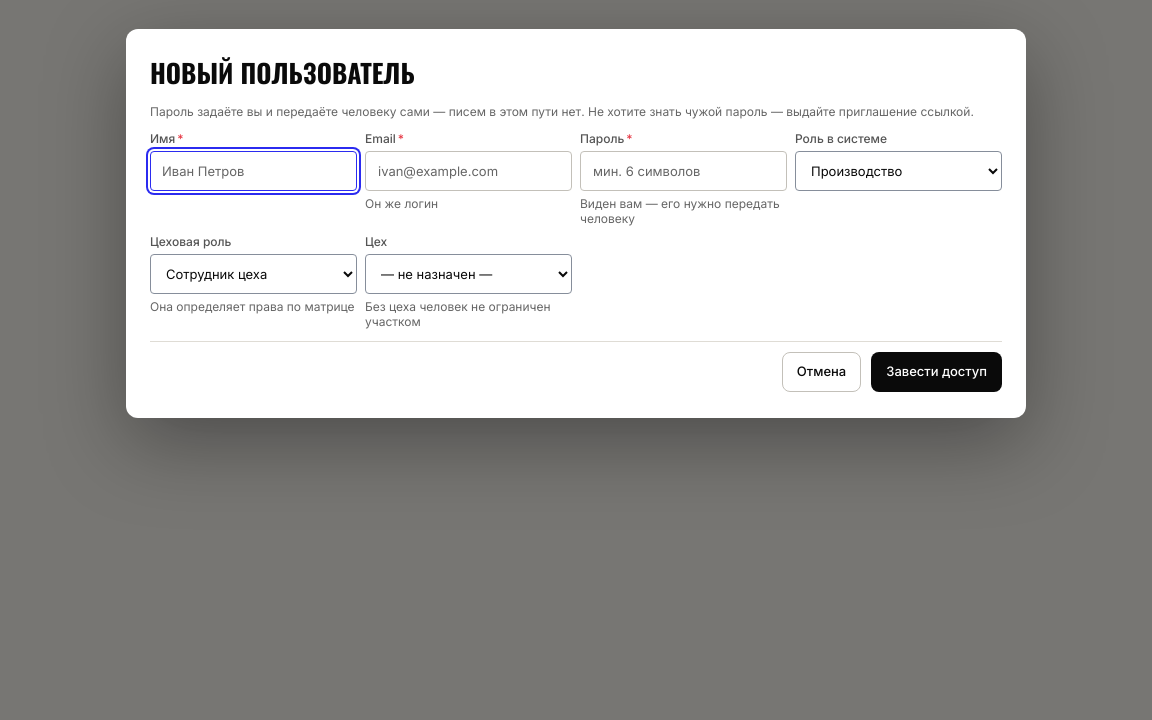
Test: UserModal — заведение › короткий пароль не уходит на сервер
Type "Пётр" into the field labelled "Имя*" at (254, 171), box [150,151,357,191]
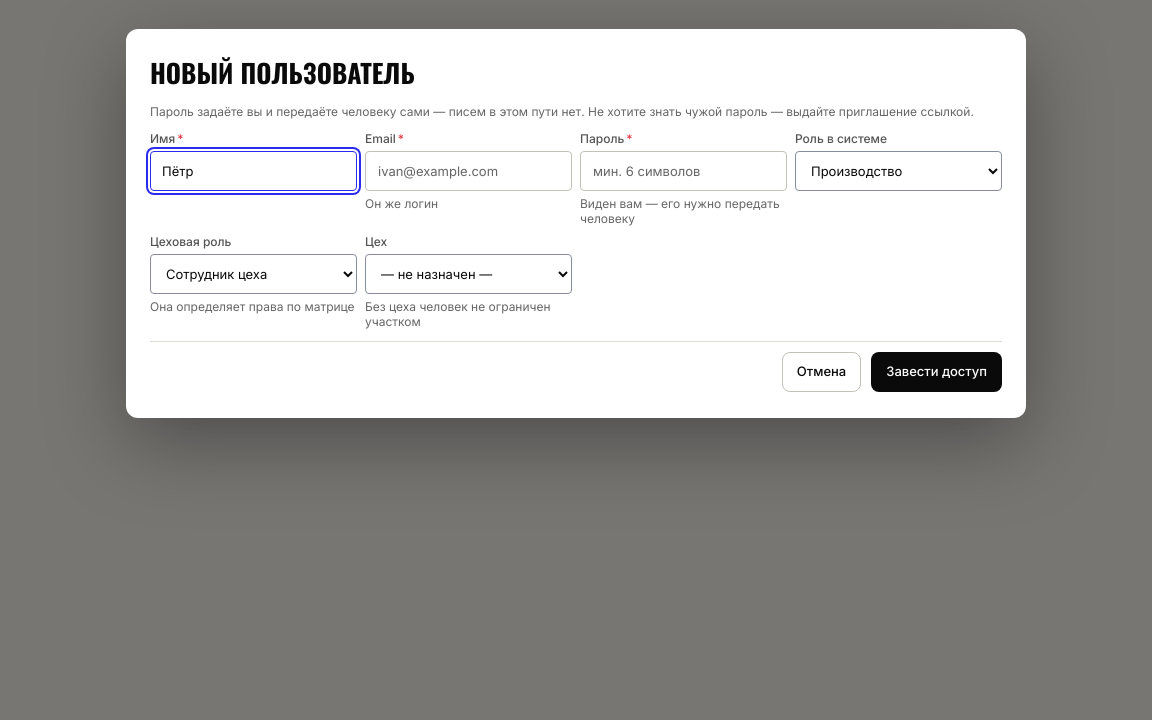
Type "petr@pinhead.ru" into the field labelled "Email*" at (468, 171), box [365,151,572,191]
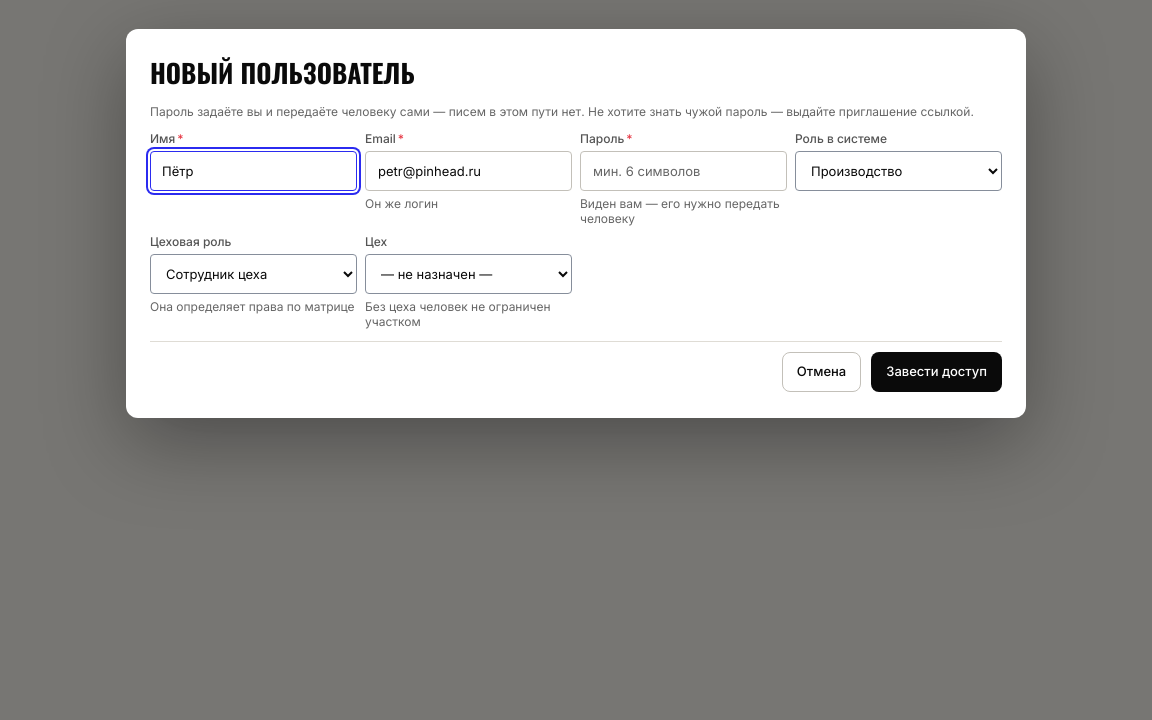
Type "123" into the field labelled "Пароль*" at (684, 171), box [580,151,787,191]
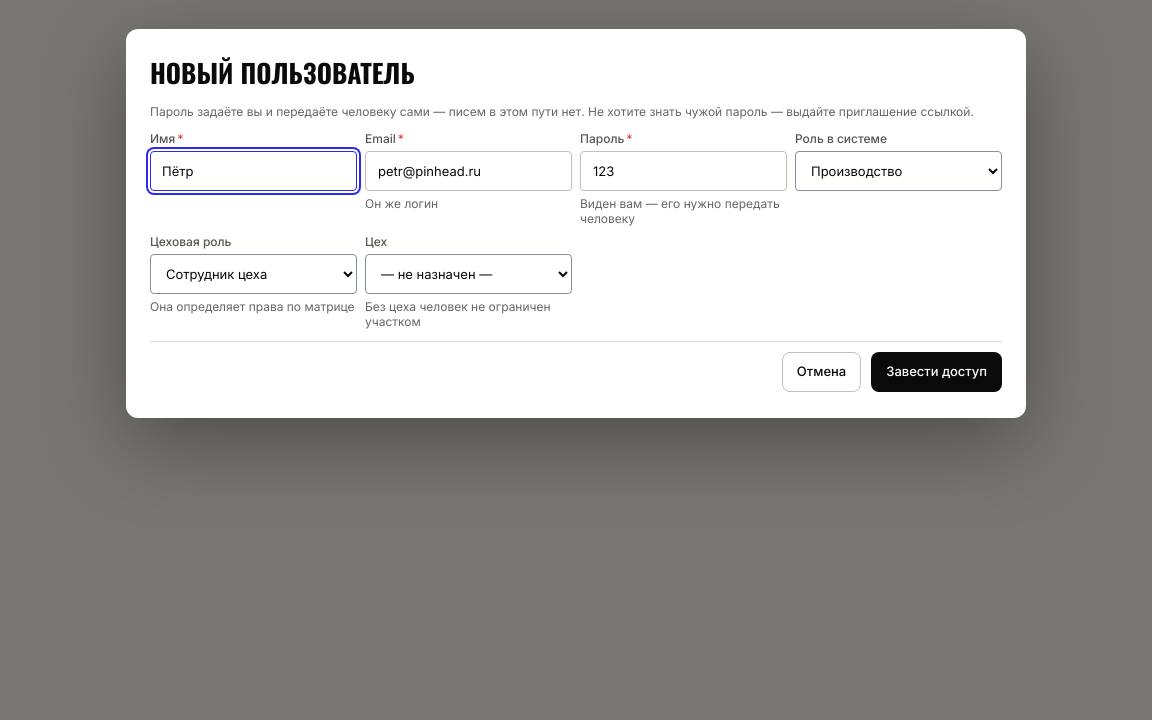
Click the button "Завести доступ" at (937, 372), box [871,352,1002,392]
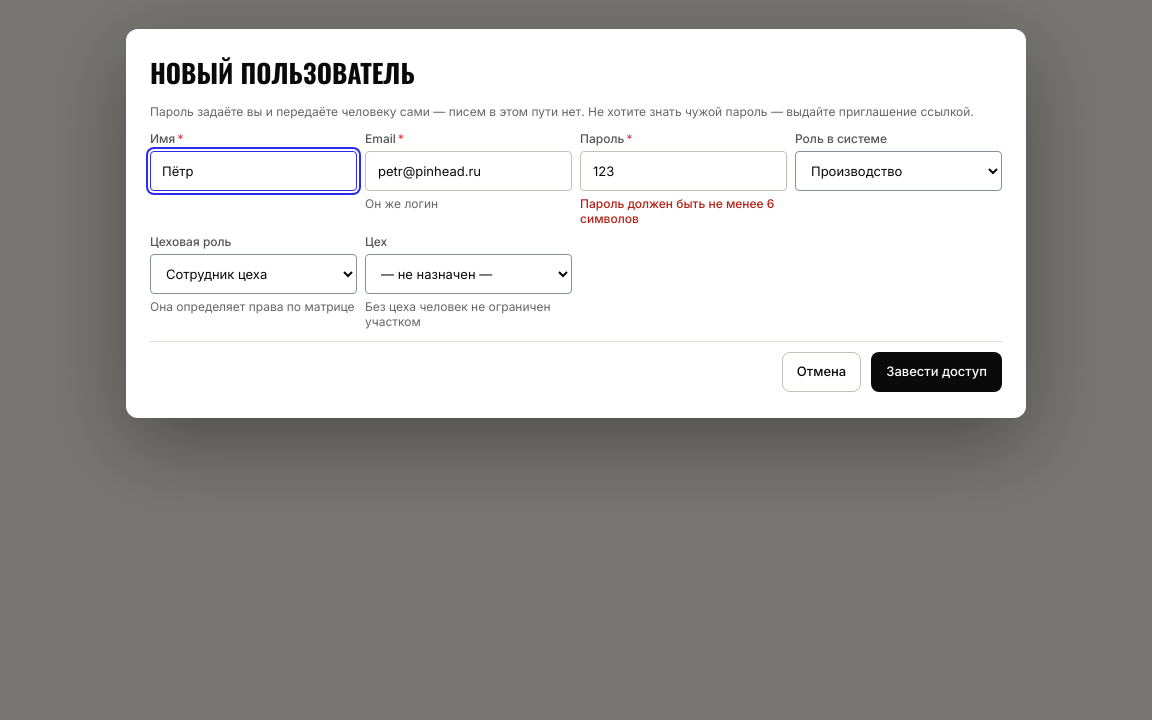
Result: the text "Пароль должен быть не менее 6 символов" is shown at [580,196,787,226]
